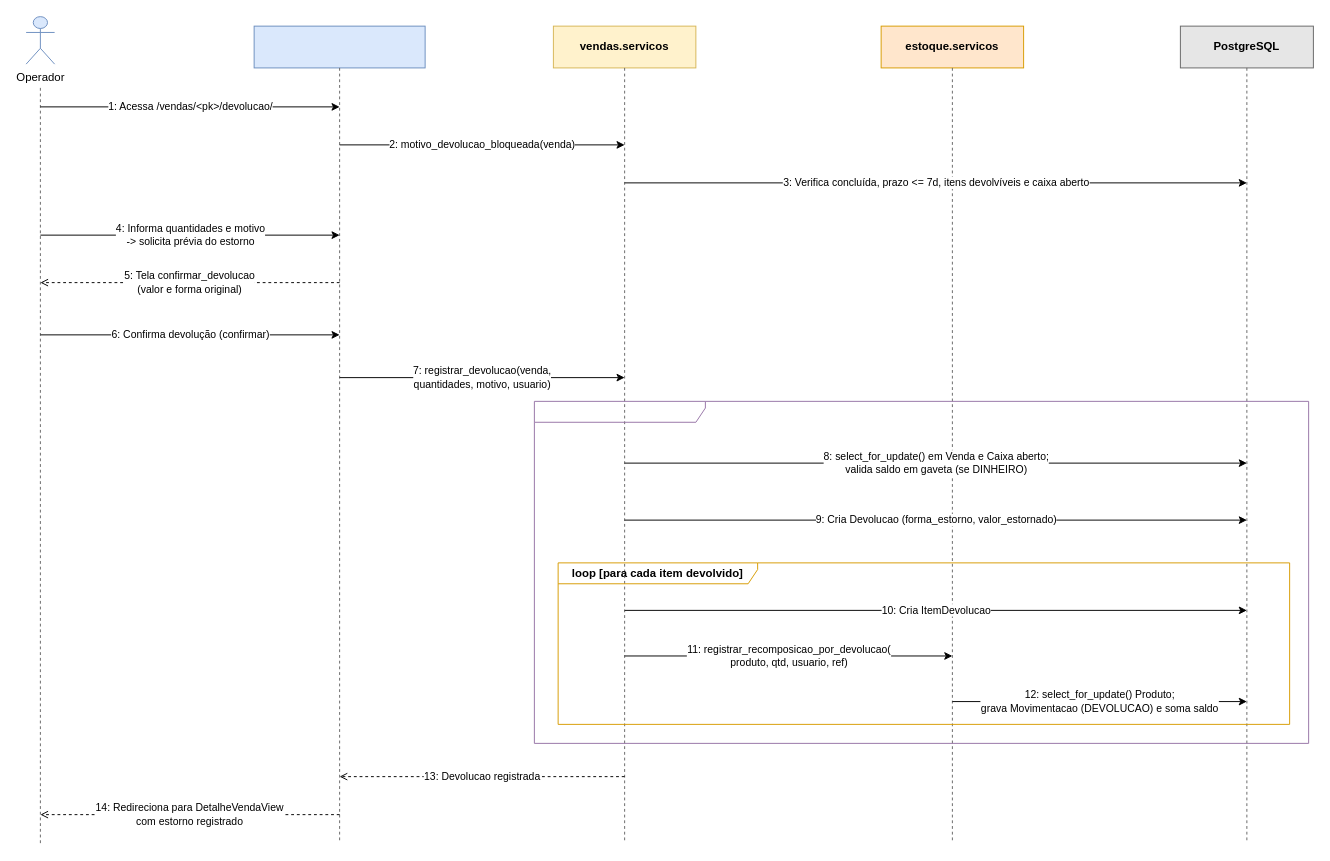
Image size: 1330x861. Some labels were removed from this diagram. The box of each missing label's shape, as (x1, y1, x2, y2) in pixels:
RegistrarDevolucaoView: (253, 25, 425, 68)
tx (@transaction.atomic): (533, 400, 1309, 743)
